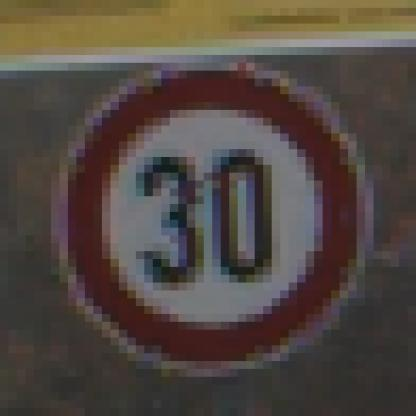Speed Limit 30: (55, 64, 369, 372)
